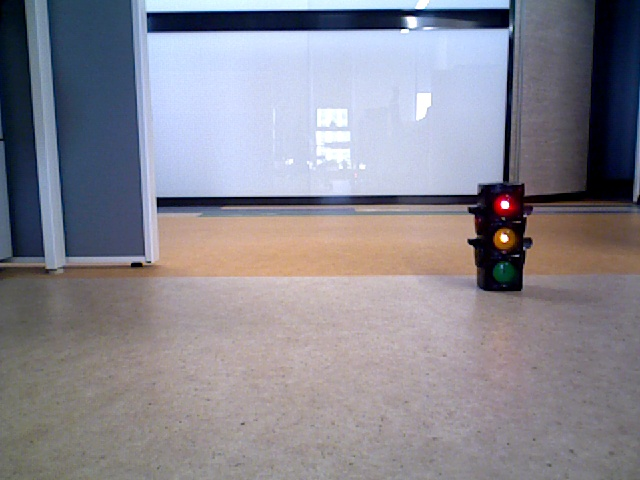red: (478, 185, 518, 284)
